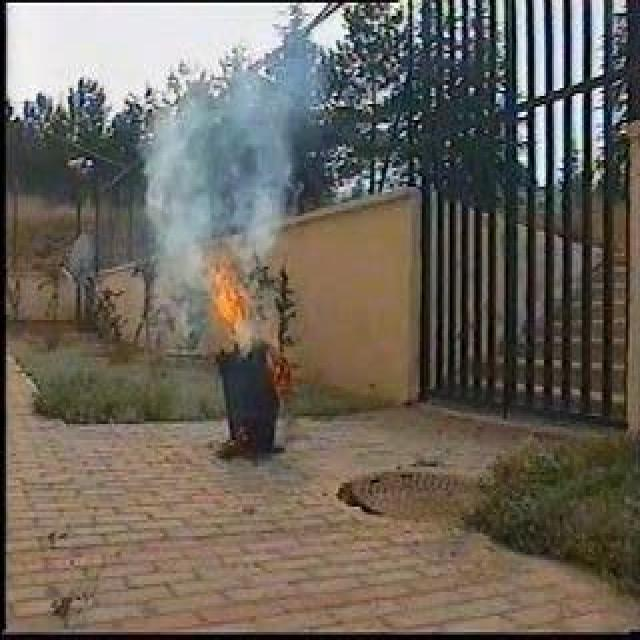fire: (210, 269, 253, 338)
smoke: (144, 90, 294, 266)
